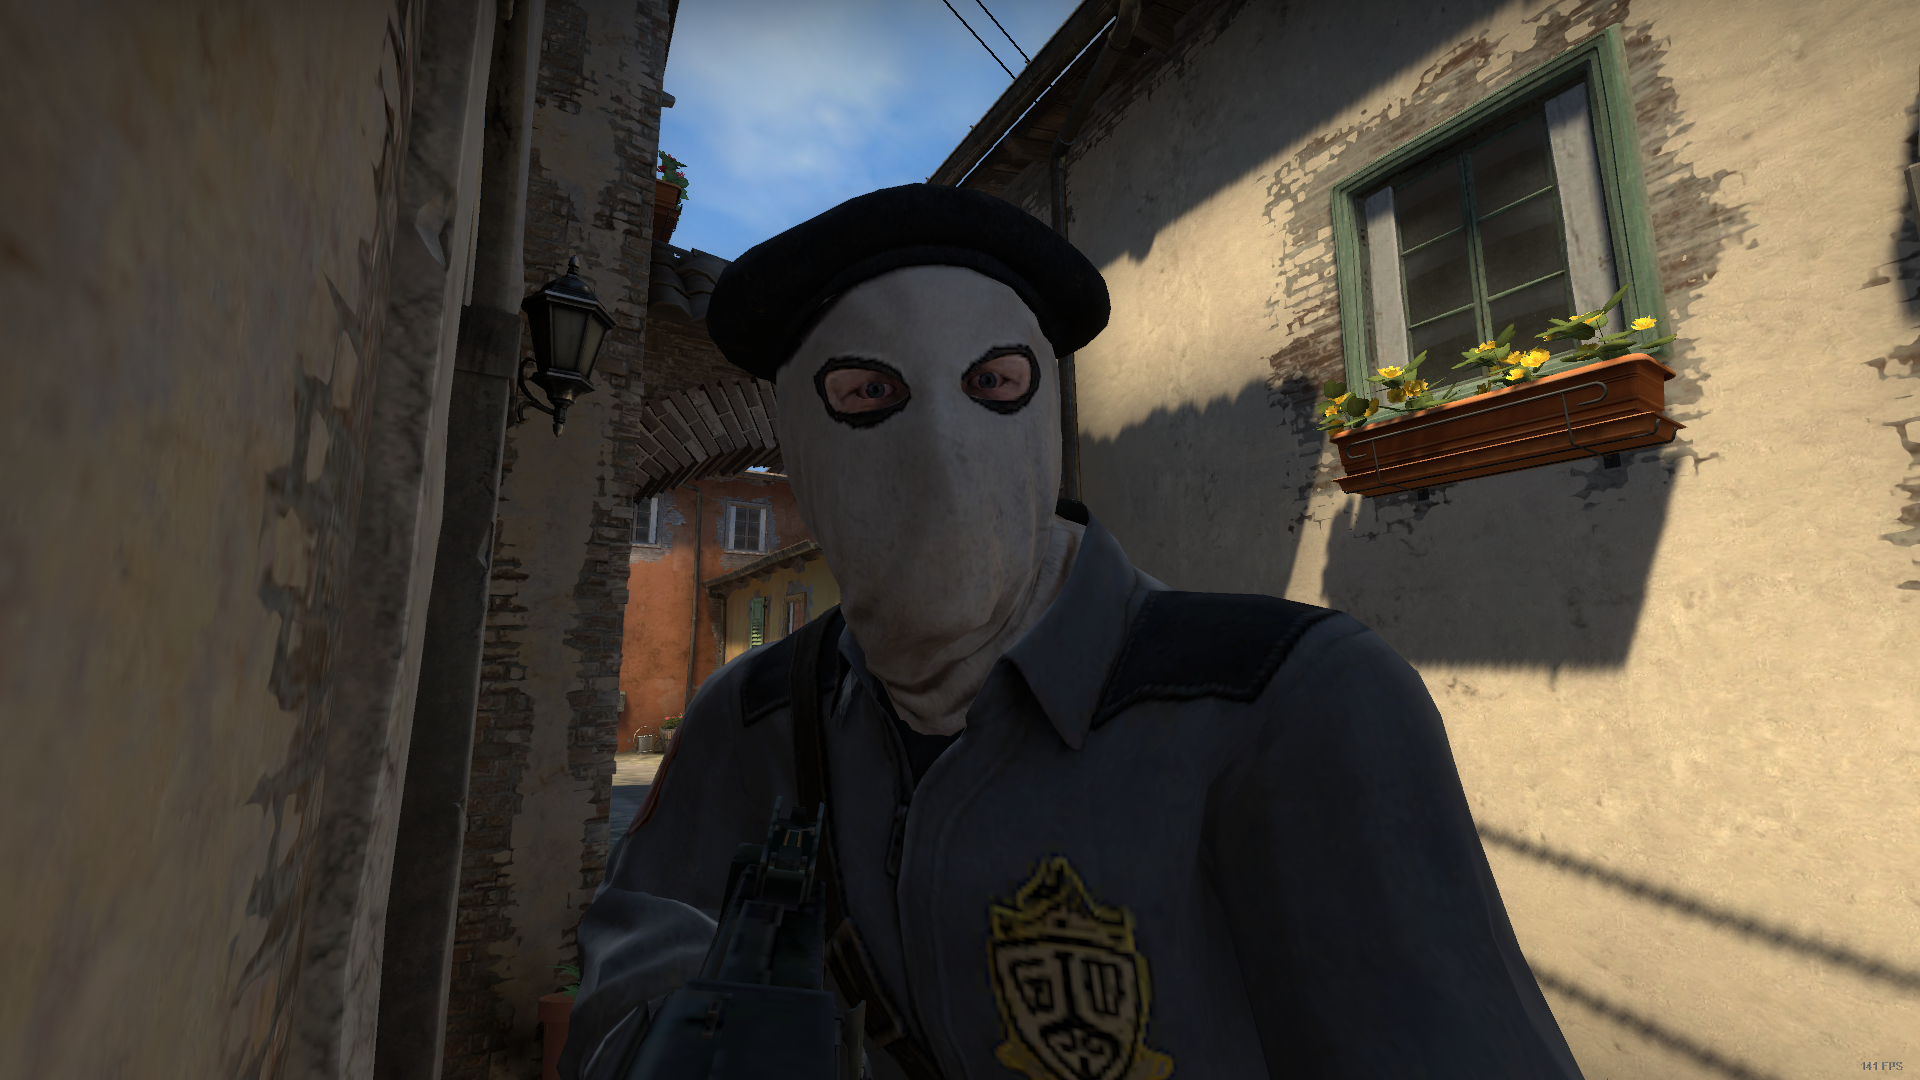t: (542, 179, 1582, 1080)
